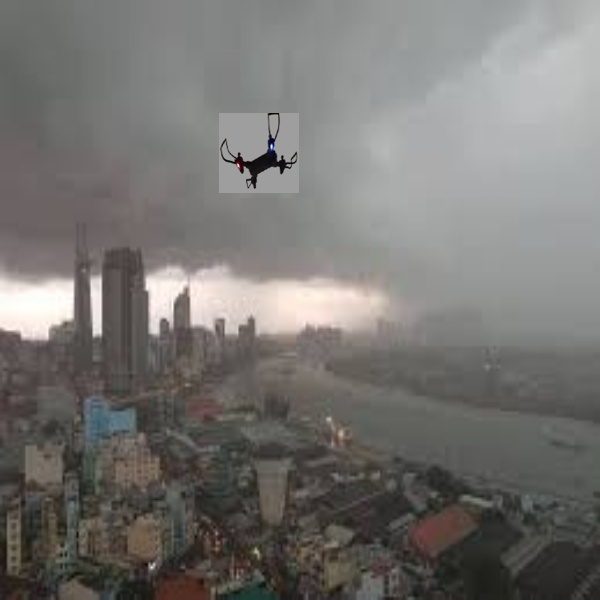drone: (219, 112, 303, 194)
